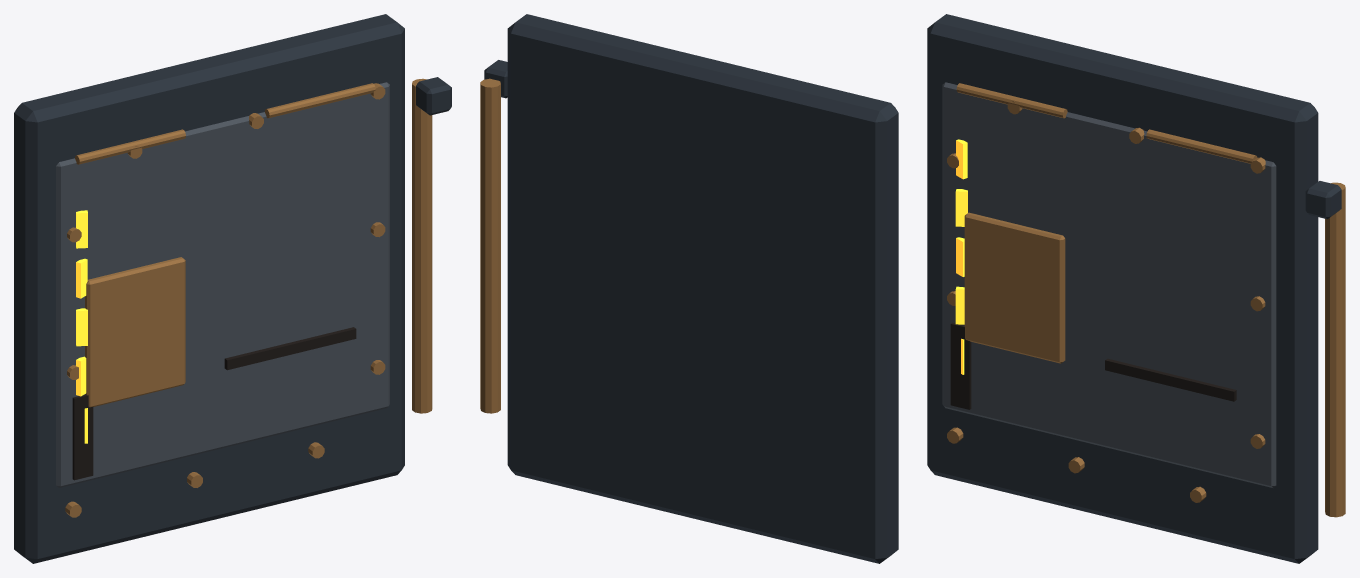
Rendered from runtime.glb.
3 views of the same model, side by side, from view 1: azimuth 30°, elevation 25°; view 2: azimuth 150°, elevation 25°; view 3: azimuth 330°, elevation 25° (orthographic).
Parts seen in each view (by area): view 1: kinetic-tide-maintenance-panel-v10_plate_nocol, kinetic-tide-maintenance-panel-v10_steel_nocol, kinetic-tide-maintenance-panel-v10_bronze_nocol, kinetic-tide-maintenance-panel-v10_weardark_nocol, kinetic-tide-maintenance-panel-v10_warningorange_nocol; view 2: kinetic-tide-maintenance-panel-v10_steel_nocol, kinetic-tide-maintenance-panel-v10_bronze_nocol; view 3: kinetic-tide-maintenance-panel-v10_plate_nocol, kinetic-tide-maintenance-panel-v10_steel_nocol, kinetic-tide-maintenance-panel-v10_bronze_nocol, kinetic-tide-maintenance-panel-v10_weardark_nocol, kinetic-tide-maintenance-panel-v10_warningorange_nocol.
Part boxes in pixels (box(x1,y1,x2,y2)): kinetic-tide-maintenance-panel-v10_plate_nocol: box(56, 82, 389, 487); kinetic-tide-maintenance-panel-v10_steel_nocol: box(14, 14, 451, 563); kinetic-tide-maintenance-panel-v10_bronze_nocol: box(65, 78, 432, 517); kinetic-tide-maintenance-panel-v10_weardark_nocol: box(72, 327, 356, 480); kinetic-tide-maintenance-panel-v10_warningorange_nocol: box(76, 210, 87, 443); kinetic-tide-maintenance-panel-v10_steel_nocol: box(484, 14, 898, 563); kinetic-tide-maintenance-panel-v10_bronze_nocol: box(480, 78, 500, 413); kinetic-tide-maintenance-panel-v10_plate_nocol: box(942, 82, 1276, 487); kinetic-tide-maintenance-panel-v10_steel_nocol: box(927, 14, 1341, 563); kinetic-tide-maintenance-panel-v10_bronze_nocol: box(947, 83, 1345, 517); kinetic-tide-maintenance-panel-v10_weardark_nocol: box(950, 322, 1236, 409); kinetic-tide-maintenance-panel-v10_warningorange_nocol: box(955, 139, 967, 374).
Size of the model in its own units: 3.67 by 3.83 by 0.4483.
